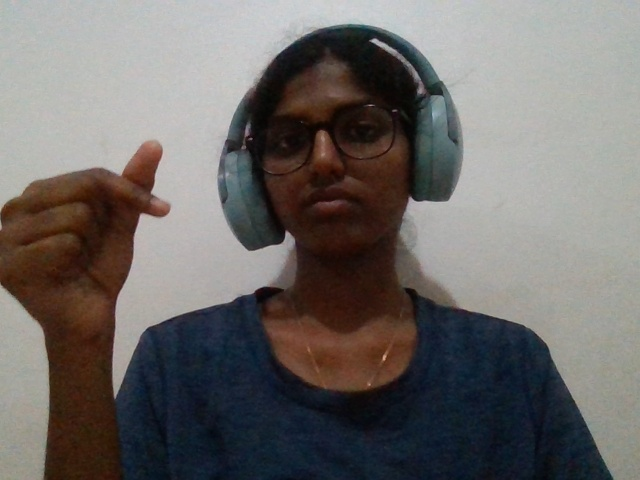G: (1, 105, 190, 407)
